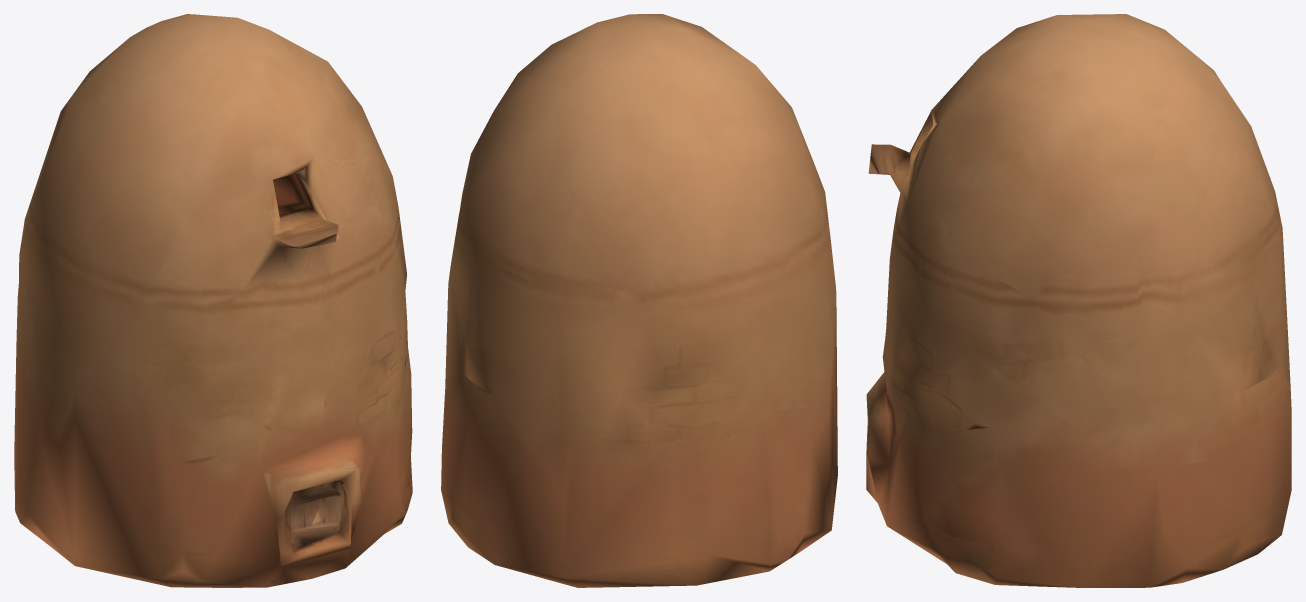
The model's file is granary_lo.glb.
3 views of the same model, side by side, from view 1: azimuth 30°, elevation 25°; view 2: azimuth 150°, elevation 25°; view 3: azimuth 270°, elevation 25° (orthographic).
Visible parts, largest first — view 1: tripo_node_03b068d7-b5a8-4dcc-b873-213e3be2e5e6; view 2: tripo_node_03b068d7-b5a8-4dcc-b873-213e3be2e5e6; view 3: tripo_node_03b068d7-b5a8-4dcc-b873-213e3be2e5e6.
Part boxes in pixels (<box>): tripo_node_03b068d7-b5a8-4dcc-b873-213e3be2e5e6: <box>14,14,412,587</box>; tripo_node_03b068d7-b5a8-4dcc-b873-213e3be2e5e6: <box>441,14,837,587</box>; tripo_node_03b068d7-b5a8-4dcc-b873-213e3be2e5e6: <box>866,14,1291,587</box>.
Size of the model in its own units: 0.7379 by 0.9813 by 0.7715.
1 material, 1 textured.
